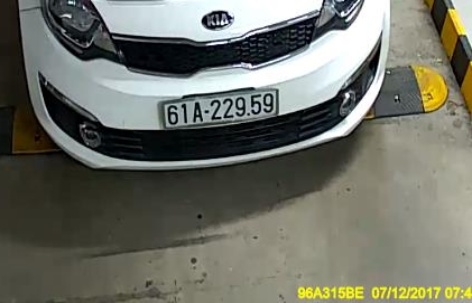plate: (157, 91, 283, 127)
